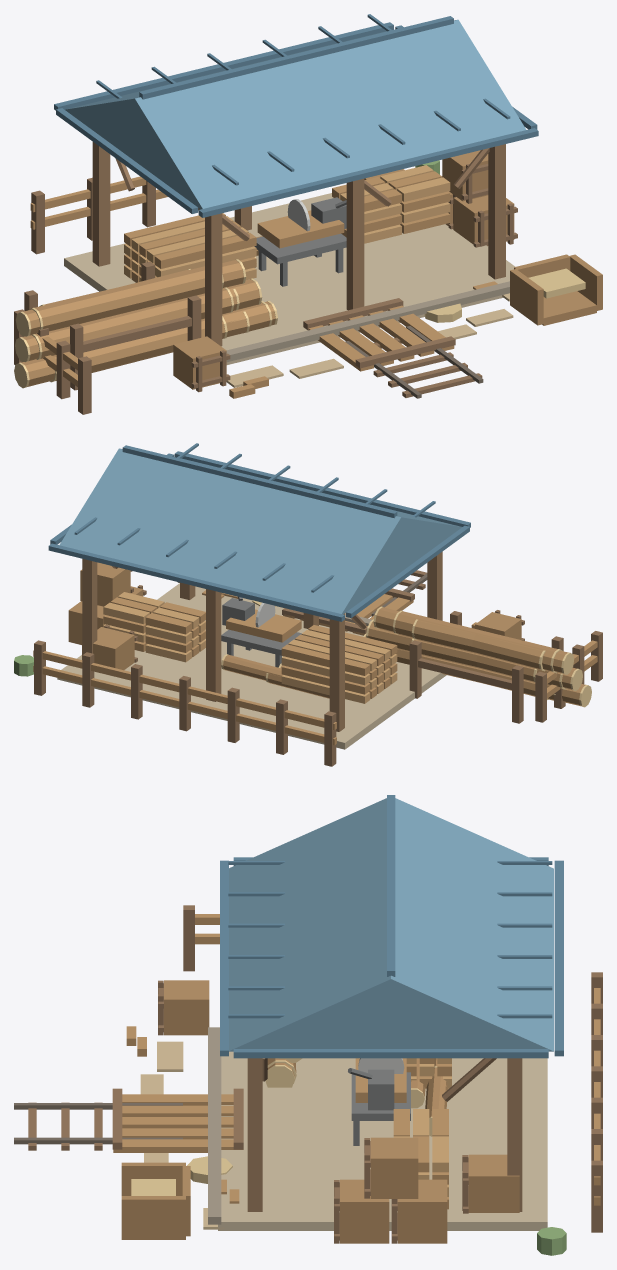
Rendered from lumber_mill.glb.
3 renders of one model, top to bottom at view 1: azimuth 30°, elevation 25°; view 2: azimuth 150°, elevation 25°; view 3: azimuth 270°, elevation 25°, orthographic. The views are drawn at different scales.
Parts seen in each view (by area): view 1: Roof_blue_gabled_sheet_metal, Foundation_work_pad_main, LogPile_left_log_10_bark, Foundation_front_dark_edge, Roof_front_dark_blue_fascia, Roof_ridge_cap_dark_blue, LogPile_left_log_3_bark, Roof_back_dark_blue_fascia, Post_front_mid, Post_front_right, LogPile_left_log_8_bark, Post_front_left (+44 smaller); view 2: Roof_blue_gabled_sheet_metal, Foundation_work_pad_main, Roof_back_dark_blue_fascia, FenceBack_lower_rail, FenceBack_upper_rail, Roof_ridge_cap_dark_blue, Roof_front_dark_blue_fascia, LogPile_left_log_11_bark, Post_back_mid, Post_back_left, Crate_back_right_box, Post_back_right (+40 smaller); view 3: Roof_blue_gabled_sheet_metal, Foundation_work_pad_main, Roof_right_rake_fascia, Crate_right_top_0_box, Crate_right_low_0_box, OpenBin_right_front_right_wall, Crate_back_right_box, Crate_right_low_1_box, Foundation_front_dark_edge, Crate_front_left_small_box, Post_front_right, Post_back_right (+25 smaller).
Boxes of the visible parts, x1=… form: Roof_blue_gabled_sheet_metal: x1=65, y1=19, x2=526, y2=209; Foundation_work_pad_main: x1=64, y1=193, x2=515, y2=364; LogPile_left_log_10_bark: x1=34, y1=266, x2=204, y2=331; Foundation_front_dark_edge: x1=226, y1=281, x2=509, y2=362; Roof_front_dark_blue_fascia: x1=198, y1=128, x2=538, y2=217; Roof_ridge_cap_dark_blue: x1=139, y1=16, x2=453, y2=99; LogPile_left_log_3_bark: x1=83, y1=302, x2=269, y2=372; Roof_back_dark_blue_fascia: x1=54, y1=22, x2=393, y2=110; Post_front_mid: x1=346, y1=178, x2=364, y2=310; Post_front_right: x1=488, y1=144, x2=505, y2=279; LogPile_left_log_8_bark: x1=80, y1=279, x2=259, y2=341; Post_front_left: x1=205, y1=213, x2=222, y2=346; Roof_blue_gabled_sheet_metal: x1=59, y1=448, x2=461, y2=614; Foundation_work_pad_main: x1=57, y1=583, x2=446, y2=749; Roof_back_dark_blue_fascia: x1=48, y1=543, x2=344, y2=621; FenceBack_lower_rail: x1=33, y1=665, x2=336, y2=745; FenceBack_upper_rail: x1=33, y1=650, x2=336, y2=730; Roof_ridge_cap_dark_blue: x1=122, y1=445, x2=397, y2=518; Roof_front_dark_blue_fascia: x1=174, y1=451, x2=470, y2=527; LogPile_left_log_11_bark: x1=375, y1=607, x2=542, y2=670; Post_back_mid: x1=206, y1=589, x2=221, y2=701; Post_back_left: x1=329, y1=613, x2=344, y2=731; Crate_back_right_box: x1=82, y1=627, x2=134, y2=670; Post_back_right: x1=82, y1=559, x2=97, y2=654; Roof_blue_gabled_sheet_metal: x1=229, y1=798, x2=553, y2=1051; Foundation_work_pad_main: x1=218, y1=1051, x2=547, y2=1230; Roof_right_rake_fascia: x1=233, y1=1049, x2=548, y2=1058; Crate_right_top_0_box: x1=370, y1=1137, x2=418, y2=1198; Crate_right_low_0_box: x1=397, y1=1179, x2=447, y2=1243; OpenBin_right_front_right_wall: x1=121, y1=1196, x2=185, y2=1239; Crate_back_right_box: x1=468, y1=1154, x2=519, y2=1212; Crate_right_low_1_box: x1=340, y1=1179, x2=389, y2=1243; Foundation_front_dark_edge: x1=208, y1=1027, x2=221, y2=1224; Crate_front_left_small_box: x1=164, y1=980, x2=209, y2=1035; Post_front_right: x1=247, y1=1058, x2=262, y2=1211; Post_back_right: x1=507, y1=1058, x2=522, y2=1211.
Bounding box in the file's own units: 8.71 × 3.41 × 7.14.
